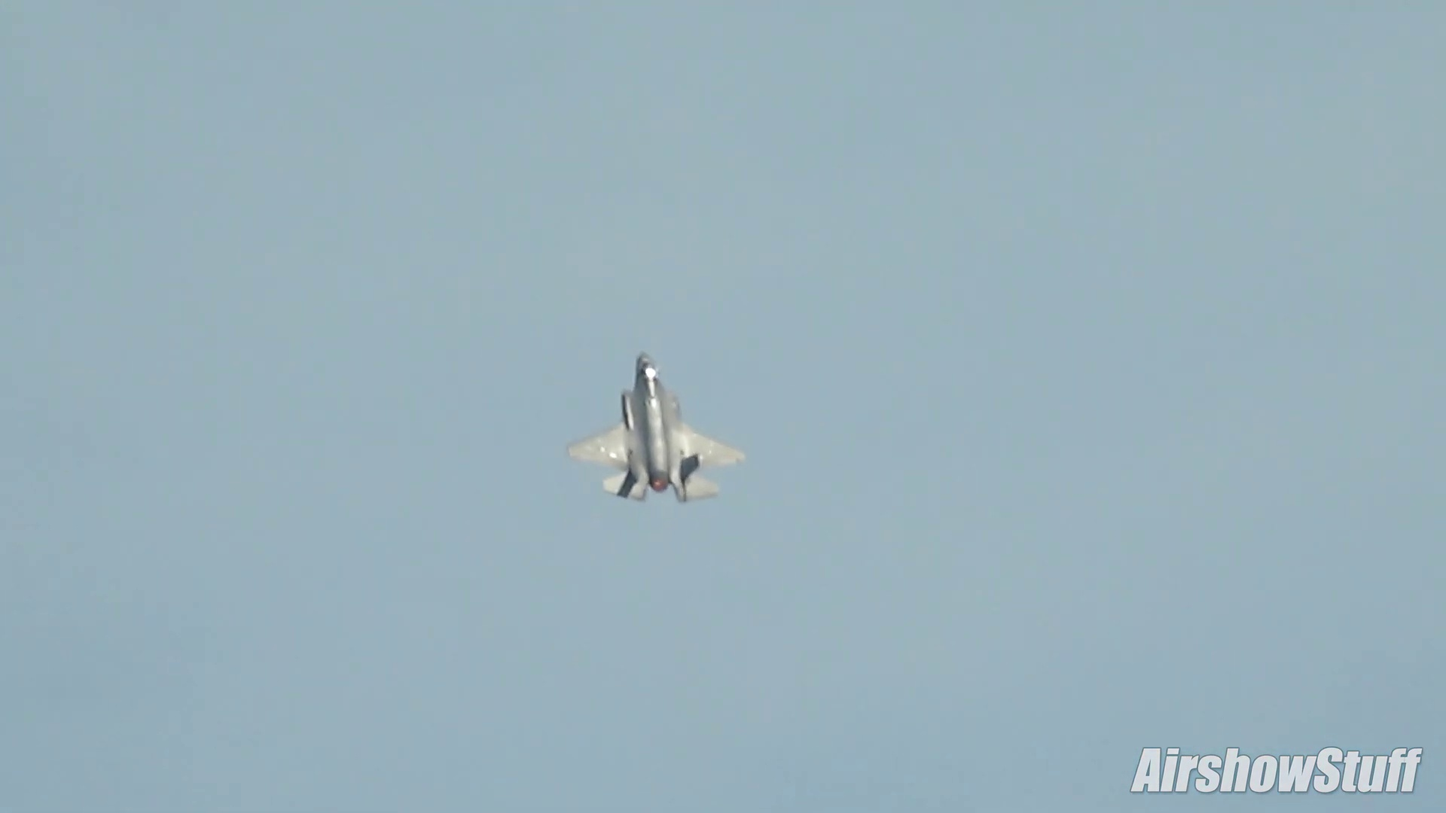F35: (559, 346, 750, 508)
